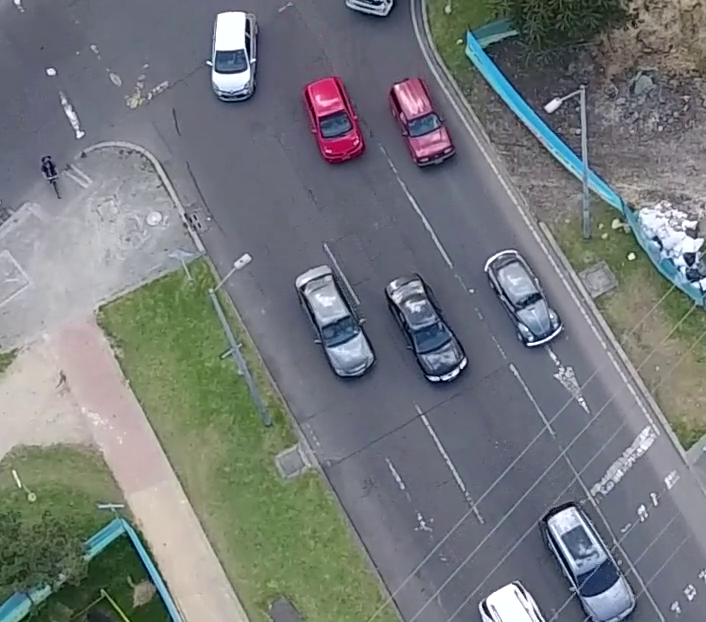car: (535, 496, 642, 622), (292, 261, 378, 385), (382, 269, 469, 388), (482, 247, 564, 354), (386, 72, 457, 169), (301, 74, 366, 168), (205, 4, 260, 103)
